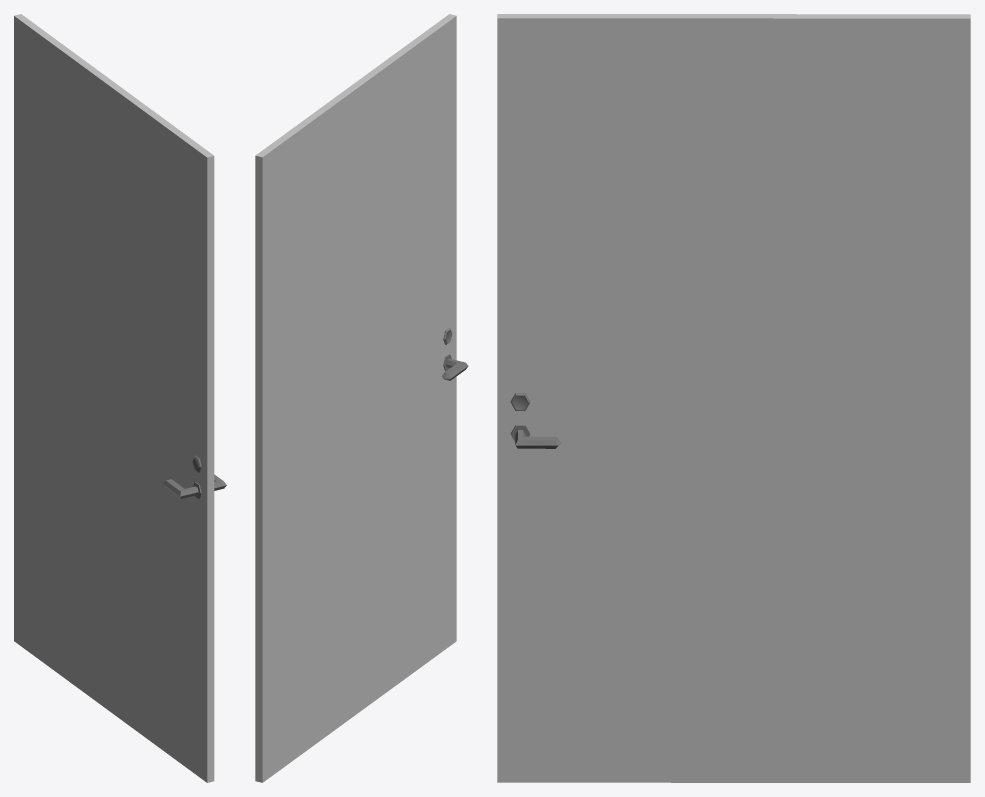
File: SW_corridor__R_lobby_R_Aula_Ovi_023.FBX
The picture shows the model from 3 angles, left to right: view 1: azimuth 30°, elevation 25°; view 2: azimuth 150°, elevation 25°; view 3: azimuth 270°, elevation 25°; orthographic projection. The views are drawn at different scales.
Parts seen in each view (by area): view 1: SW_corridor__R_lobby_R_Aula_Ovi_023; view 2: SW_corridor__R_lobby_R_Aula_Ovi_023; view 3: SW_corridor__R_lobby_R_Aula_Ovi_023.
Boxes of the visible parts, x1,y1,x2,y2 form: SW_corridor__R_lobby_R_Aula_Ovi_023: [14, 14, 226, 782]; SW_corridor__R_lobby_R_Aula_Ovi_023: [255, 14, 468, 782]; SW_corridor__R_lobby_R_Aula_Ovi_023: [497, 14, 970, 782].
Bounding box in the file's own units: 16.05 × 115 × 205.
